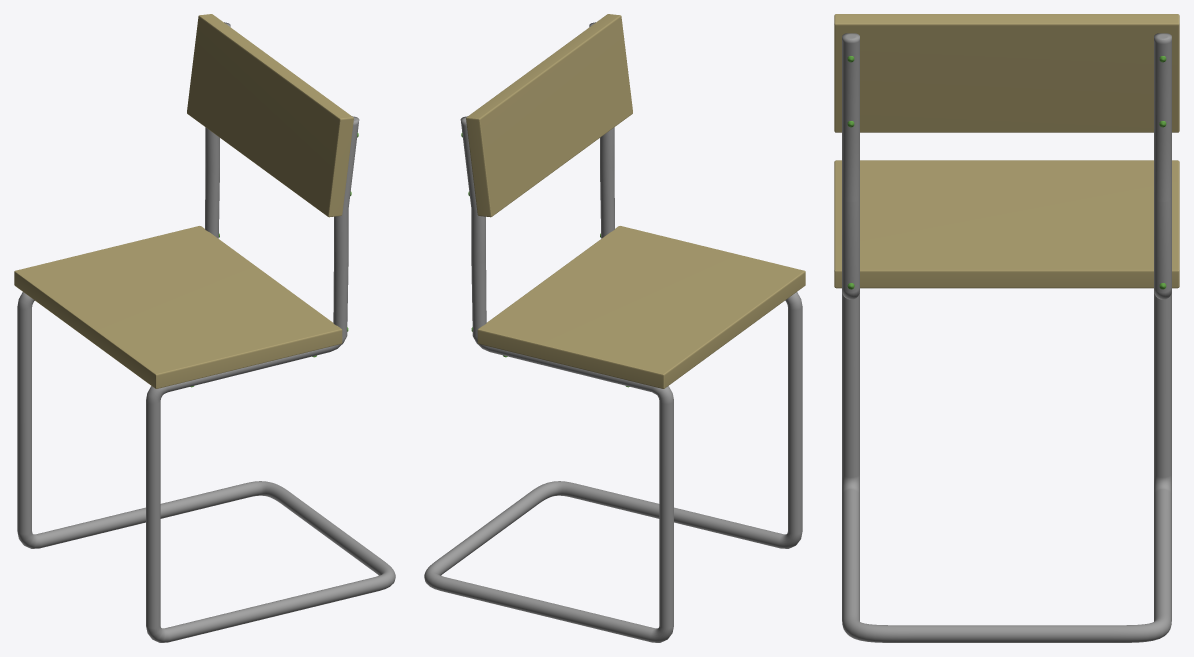
File: Chair_1.fbx
The picture shows the model from 3 angles, left to right: view 1: azimuth 30°, elevation 25°; view 2: azimuth 150°, elevation 25°; view 3: azimuth 270°, elevation 25°; orthographic projection. The views are drawn at different scales.
Parts seen in each view (by area): view 1: Chair; view 2: Chair; view 3: Chair.
Part boxes in pixels (left/top/right/bottom): Chair: left=14, top=14, right=395, bottom=642; Chair: left=424, top=14, right=805, bottom=642; Chair: left=834, top=14, right=1179, bottom=642.
Bounding box in the file's own units: 178 × 324 × 172.
